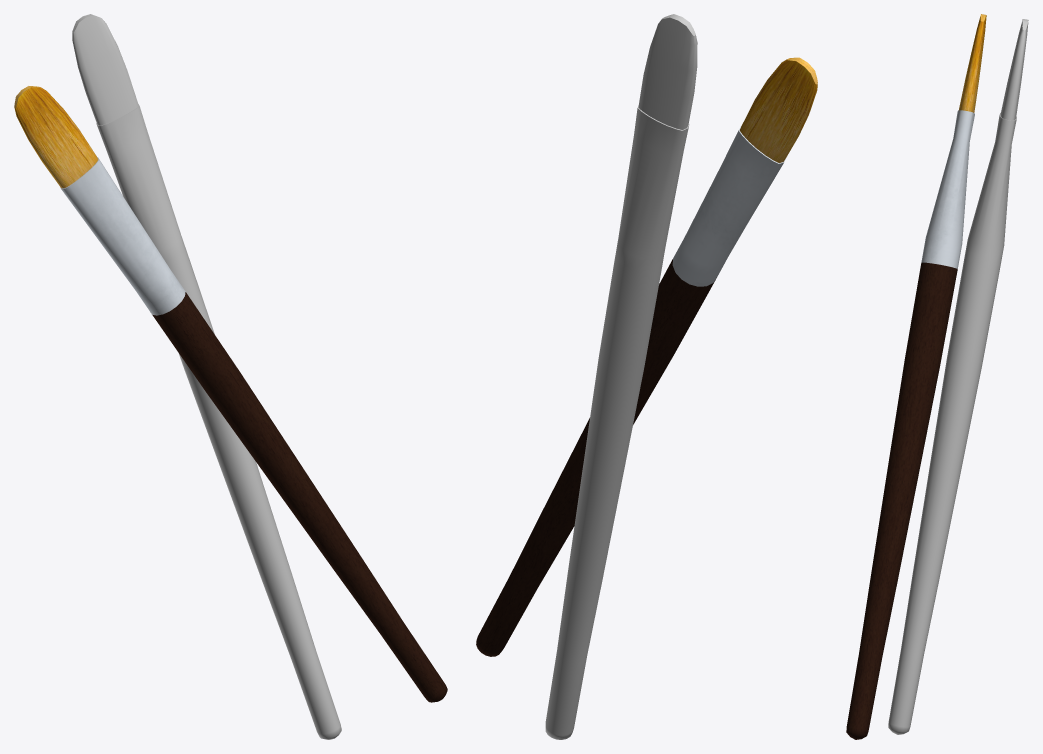
The picture shows the model from 3 angles, left to right: view 1: azimuth 30°, elevation 25°; view 2: azimuth 150°, elevation 25°; view 3: azimuth 270°, elevation 25°; orthographic projection. The views are drawn at different scales.
Parts seen in each view (by area): view 1: PaintBrush3, PaintBrush3v2; view 2: PaintBrush3v2, PaintBrush3; view 3: PaintBrush3, PaintBrush3v2.
Part boxes in pixels (x1=…): PaintBrush3: x1=14, y1=86, x2=447, y2=702; PaintBrush3v2: x1=72, y1=14, x2=341, y2=739; PaintBrush3v2: x1=545, y1=14, x2=697, y2=739; PaintBrush3: x1=476, y1=57, x2=817, y2=656; PaintBrush3: x1=846, y1=14, x2=986, y2=739; PaintBrush3v2: x1=888, y1=19, x2=1028, y2=734.
Size of the model in its own units: 0.1117 by 0.2108 by 0.0544.
